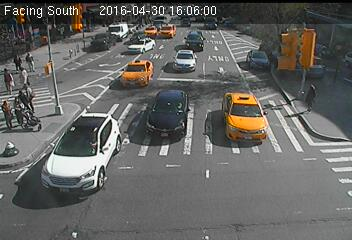neg: (307, 159, 330, 189), (88, 24, 110, 52), (175, 133, 196, 162), (112, 181, 133, 210), (281, 133, 302, 161), (63, 49, 84, 77), (188, 27, 207, 53), (69, 127, 88, 153), (29, 159, 48, 185), (139, 73, 158, 98), (107, 114, 125, 139), (221, 151, 239, 174), (141, 13, 157, 35), (238, 48, 254, 69), (187, 93, 202, 112), (255, 186, 270, 205), (149, 193, 163, 211), (190, 182, 203, 200), (240, 96, 251, 111)
pos: (300, 78, 325, 112), (11, 60, 32, 89), (18, 80, 38, 107), (20, 48, 37, 70), (14, 88, 29, 109), (10, 50, 22, 66)
